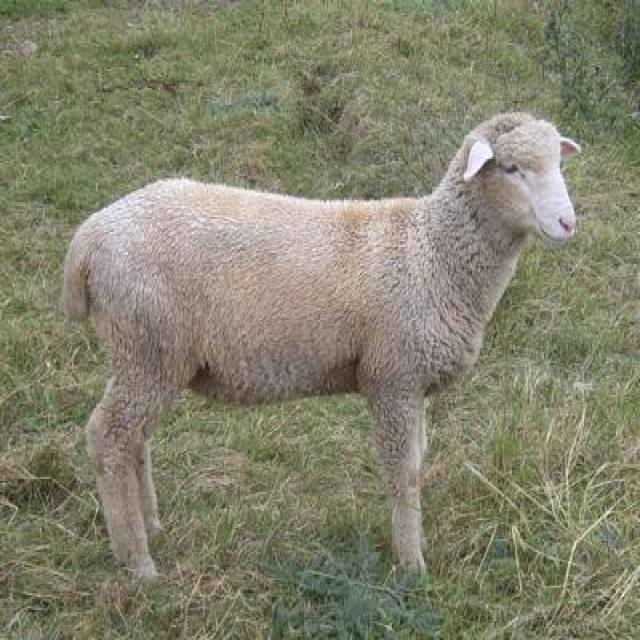Sheep: (64, 109, 563, 578)
